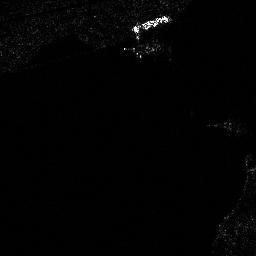ship: (131, 15, 172, 35)
